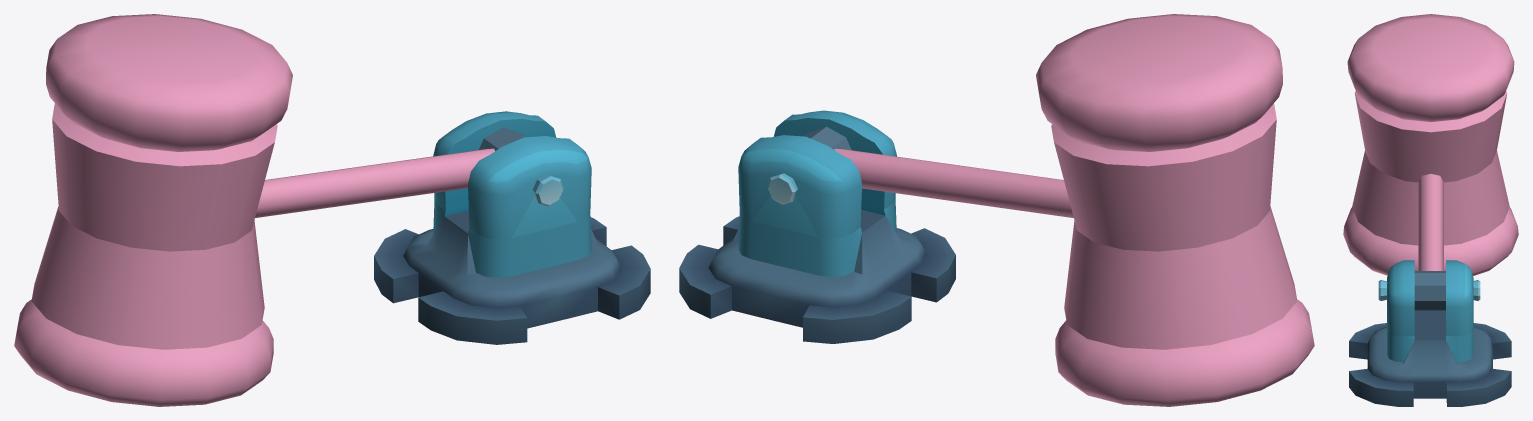
File: Obstacle-2.fbx
3 views of the same model, side by side, from view 1: azimuth 30°, elevation 25°; view 2: azimuth 150°, elevation 25°; view 3: azimuth 270°, elevation 25° (orthographic). The views are drawn at different scales.
Parts seen in each view (by area): view 1: Obs-2-A, Obs-2; view 2: Obs-2-A, Obs-2; view 3: Obs-2-A, Obs-2.
Boxes of the visible parts, x1,y1,x2,y2 form: Obs-2-A: (14,14,563,406); Obs-2: (374,111,650,344); Obs-2-A: (767,14,1314,406); Obs-2: (679,110,955,343); Obs-2-A: (1343,14,1518,310); Obs-2: (1349,260,1511,406).
Bounding box in the file's own units: 5.33 × 2.83 × 2.06.
